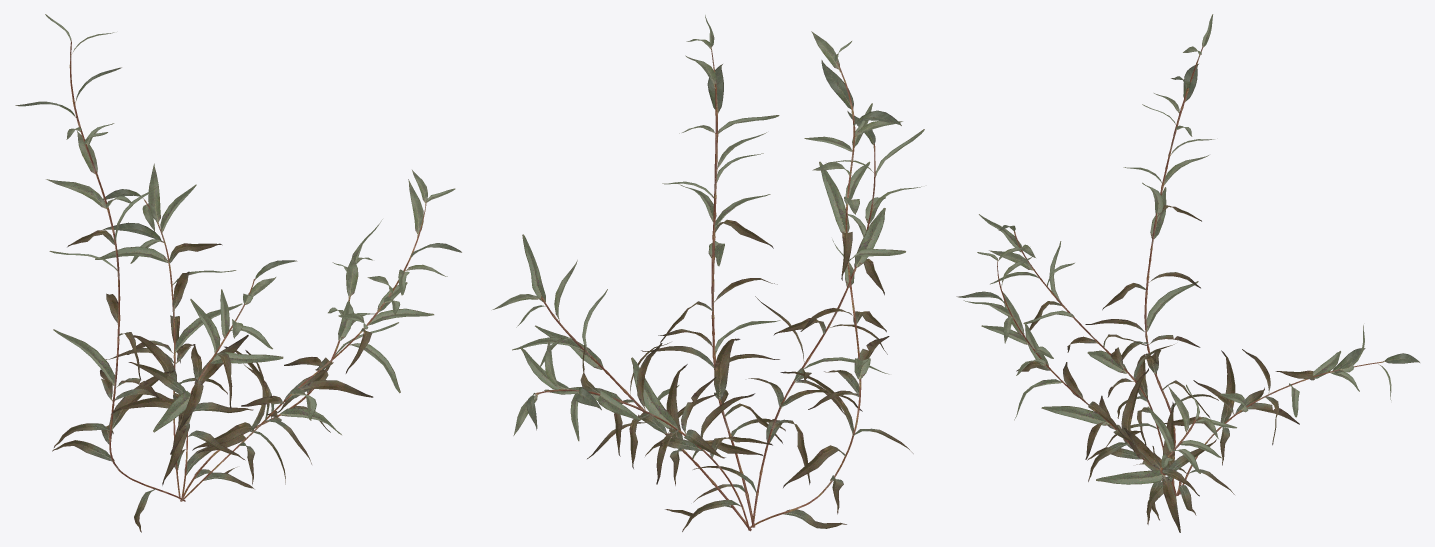
File: natural-berry-bush-quiet-depleted.glb
3 renders of one model, left to right at view 1: azimuth 30°, elevation 25°; view 2: azimuth 150°, elevation 25°; view 3: azimuth 270°, elevation 25°, orthographic. The views are drawn at different scales.
Parts seen in each view (by area): view 1: natural-berry-bush-quiet-depleted runtime mesh; view 2: natural-berry-bush-quiet-depleted runtime mesh; view 3: natural-berry-bush-quiet-depleted runtime mesh.
Part boxes in pixels (<box>): natural-berry-bush-quiet-depleted runtime mesh: <box>15,14,461,532</box>; natural-berry-bush-quiet-depleted runtime mesh: <box>492,15,924,531</box>; natural-berry-bush-quiet-depleted runtime mesh: <box>956,14,1419,532</box>.
Size of the model in its own units: 0.8156 by 1.05 by 1.02.
1 material, 1 textured.
